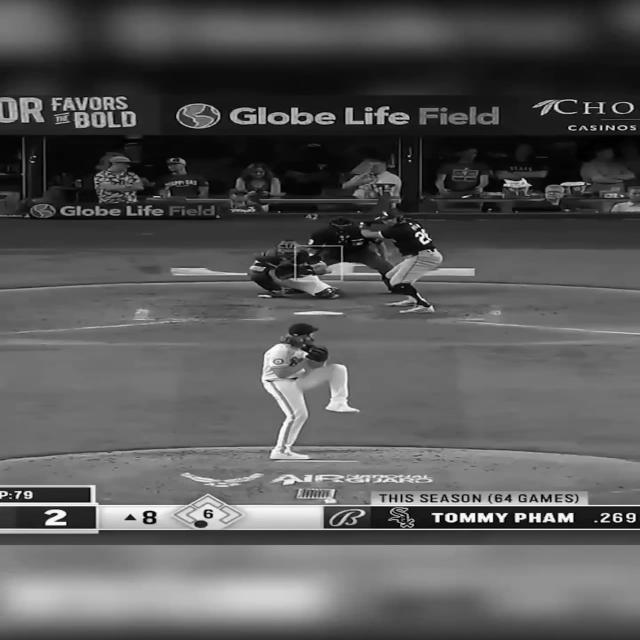baseball_glove: (273, 264, 309, 280), (305, 346, 329, 362)
shoe: (269, 449, 309, 460), (325, 401, 360, 412), (401, 305, 436, 314), (385, 298, 416, 306)
